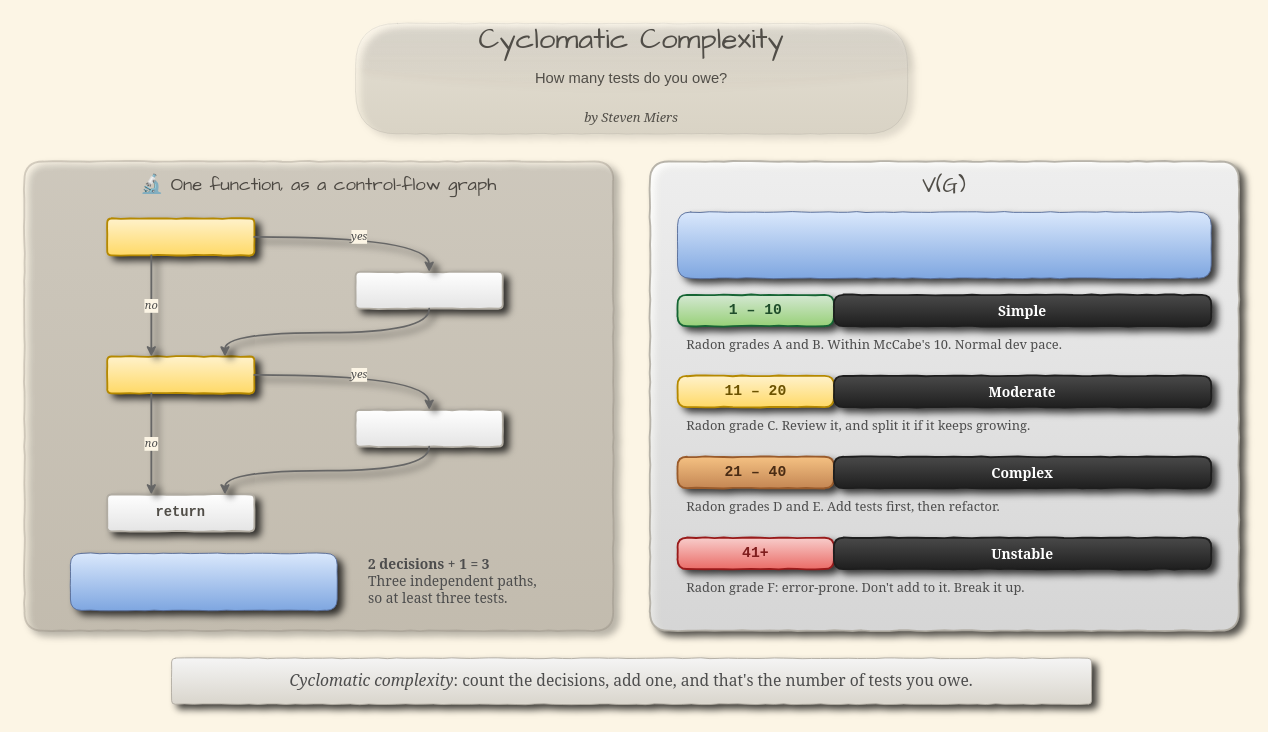
Image size: 1268x732. Some labels were removed from this diagram. Here are the shapes that lost their labels. From the top down, the centre of each, then its label:
At point (183, 239): "if x:".
At point (946, 247): "V(G) = E − N + 2P = decisions + 1".
At point (431, 292): "do_a()".
At point (183, 377): "if y:".
At point (431, 430): "do_b()".
At point (206, 583): "E = 6 · N = 5 · P = 1 V(G) = 6 − 5 + 2 = 3".
